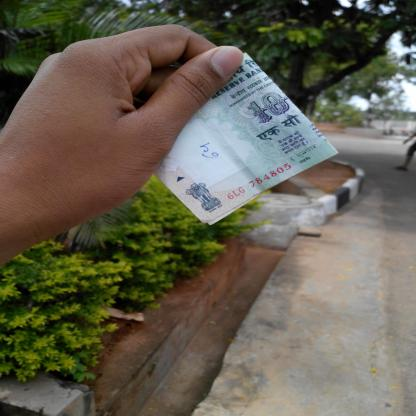Old100Front: (152, 50, 340, 227)
